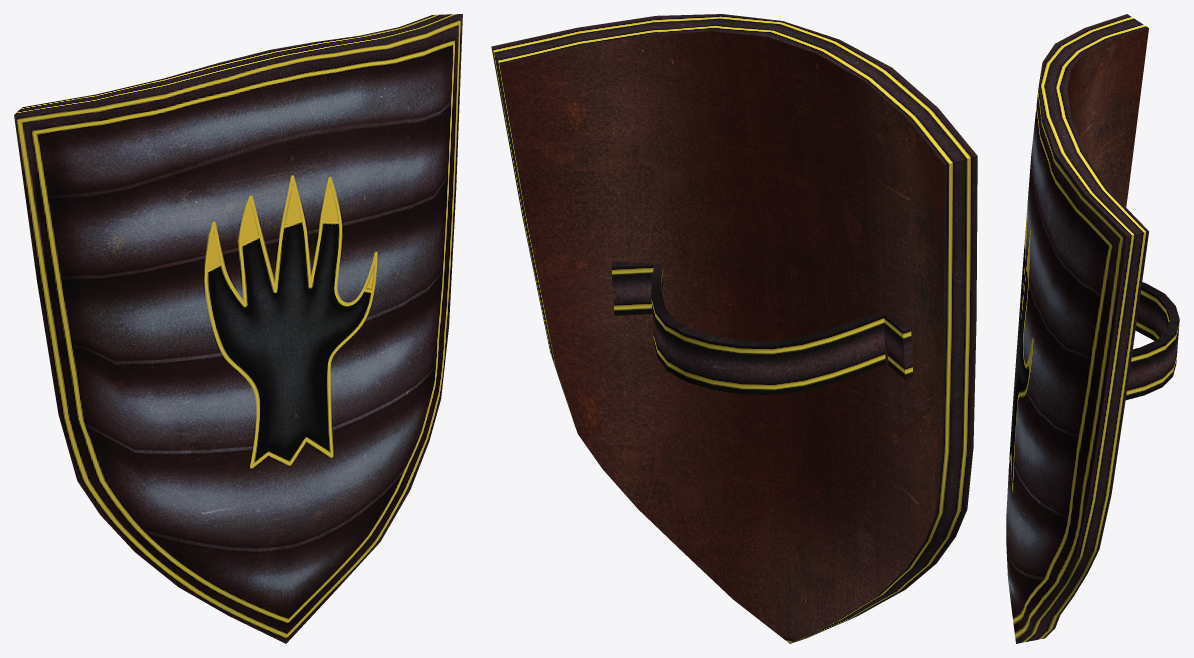
File: Knight_Heater.FBX
3 renders of one model, left to right at view 1: azimuth 30°, elevation 25°; view 2: azimuth 150°, elevation 25°; view 3: azimuth 270°, elevation 25°, orthographic. The views are drawn at different scales.
Parts seen in each view (by area): view 1: Knight_Heater; view 2: Knight_Heater; view 3: Knight_Heater.
Part boxes in pixels (x1,y1,x2,y2): Knight_Heater: (14, 14, 462, 643); Knight_Heater: (491, 14, 977, 643); Knight_Heater: (1006, 14, 1179, 643).
Bounding box in the file's own units: 57.09 × 70 × 19.55.
